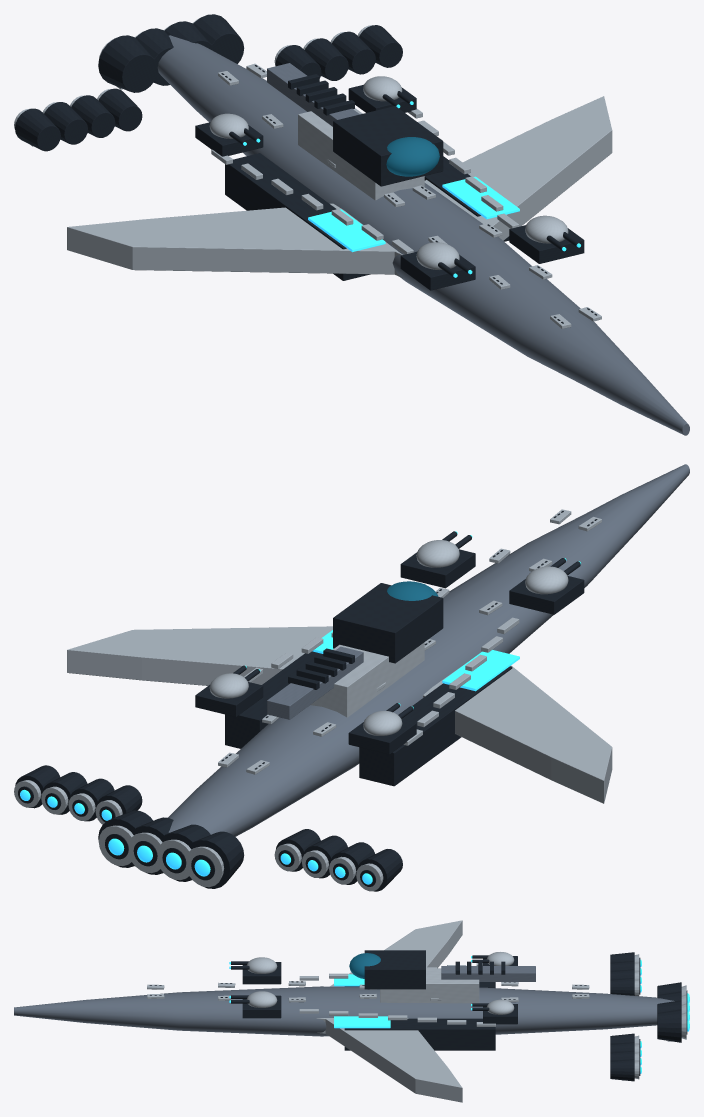
The model's file is frigate.glb.
3 renders of one model, top to bottom at view 1: azimuth 30°, elevation 25°; view 2: azimuth 150°, elevation 25°; view 3: azimuth 270°, elevation 25°, orthographic. The views are drawn at different scales.
Visible parts, largest first — view 1: frigate; view 2: frigate; view 3: frigate.
Boxes of the visible parts, left/top/right/bottom form: frigate: left=14, top=14, right=689, bottom=435; frigate: left=14, top=464, right=689, bottom=891; frigate: left=14, top=920, right=689, bottom=1102.
Size of the model in its own units: 16.79 by 3.52 by 28.63.
5 materials, 3 textured.
